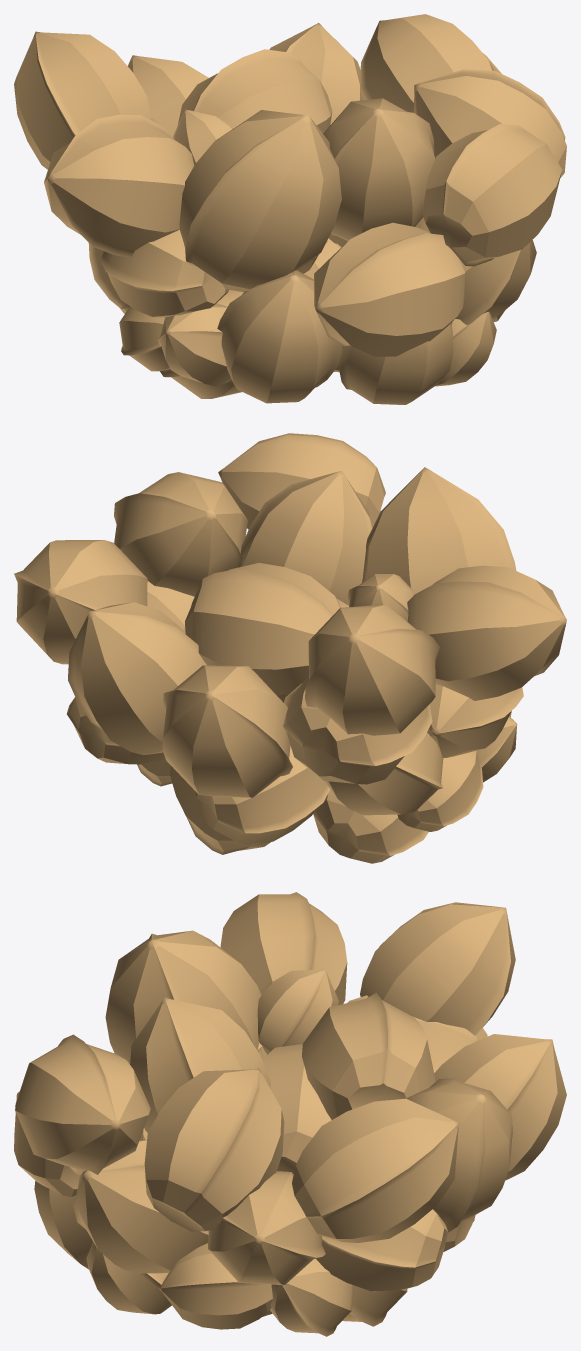
The model's file is Nutcracker_Nut_Pile.fbx.
3 renders of one model, top to bottom at view 1: azimuth 30°, elevation 25°; view 2: azimuth 150°, elevation 25°; view 3: azimuth 270°, elevation 25°, orthographic. The views are drawn at different scales.
Visible parts, largest first — view 1: Pile_of_Nuts; view 2: Pile_of_Nuts; view 3: Pile_of_Nuts.
Part boxes in pixels (box(x1,y1,x2,y2)): Pile_of_Nuts: box(14, 14, 566, 404); Pile_of_Nuts: box(14, 433, 566, 863); Pile_of_Nuts: box(14, 892, 566, 1336).
Size of the model in its own units: 34.22 by 21.28 by 31.93.
